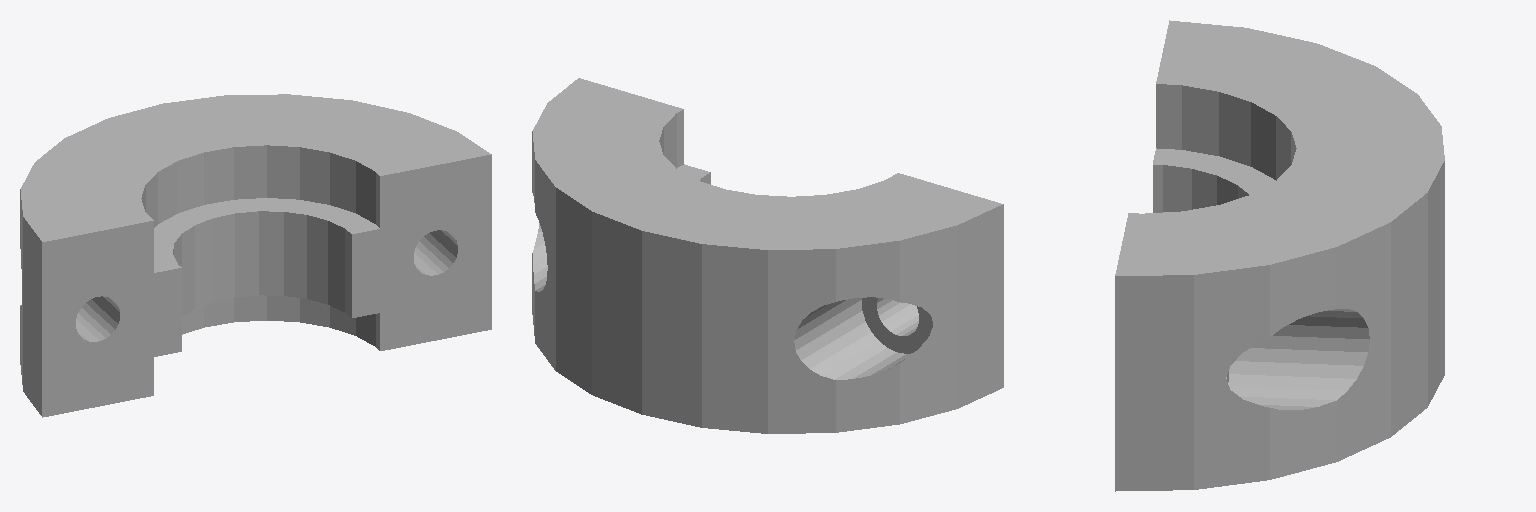
URDF robot description (root):
<?xml version='1.0' encoding='utf-8'?>
<robot name="root">
  <link name="link_001">
    <visual>
      <origin xyz="0 0 0" rpy="0 0 0" />
      <geometry>
        <mesh filename="1d6e1aba59a7467880245c1a8071dcb08c7ed3812b0b16503dd8aa097b1a7a09_scale_000.stl" scale="1.0000E+00 1.0000E+00 1.0000E+00" />
      </geometry>
      <material name="">
        <color rgba="7.50E-01 7.50E-01 7.50E-01 1" />
      </material>
    </visual>
    <collision>
      <origin xyz="0 0 0" rpy="0 0 0" />
      <geometry>
        <mesh filename="1d6e1aba59a7467880245c1a8071dcb08c7ed3812b0b16503dd8aa097b1a7a09_scale_000.stl" scale="1.0000E+00 1.0000E+00 1.0000E+00" />
      </geometry>
    </collision>
  </link>
</robot>

--- Facts derived from the render (not from the file) ---
The picture shows the robot from 3 angles, left to right: view 1: azimuth 30°, elevation 25°; view 2: azimuth 150°, elevation 25°; view 3: azimuth 270°, elevation 25°; orthographic projection.
Model root with 1 links and 0 joints (none), rooted at link_001, posed all joints at 0.
Links seen in each view (by area): view 1: link_001; view 2: link_001; view 3: link_001.
Boxes of the visible links, box(x1,y1,x2,y2) form: link_001: box(20, 94, 491, 417); link_001: box(532, 78, 1003, 433); link_001: box(1115, 20, 1444, 491).
Bounding box of the posed robot: 0.1195 × 0.0651 × 0.0469 m (x, y, z).
Meshes: 1 distinct files referenced, 1 mesh visuals loaded (1 binary STL).
